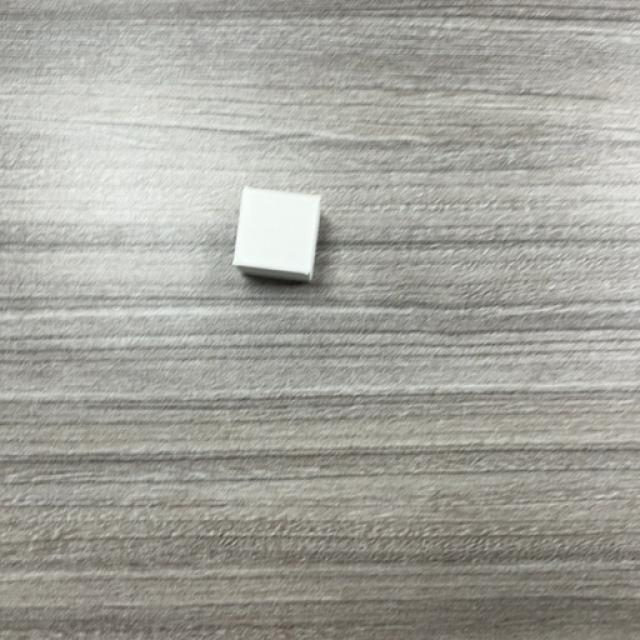Blanco: (234, 189, 320, 284)
